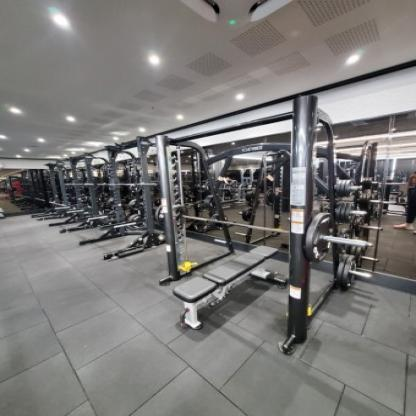smith machine: (151, 96, 349, 356)
